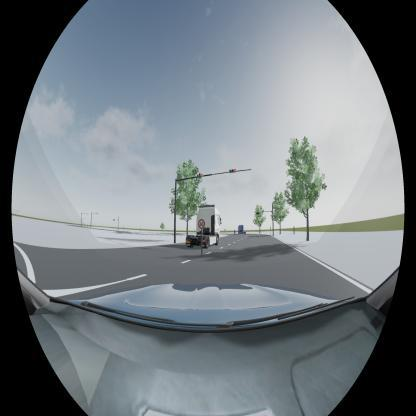Green Light: (256, 212, 260, 214)
Red Light: (196, 173, 204, 178), (228, 169, 236, 173)
